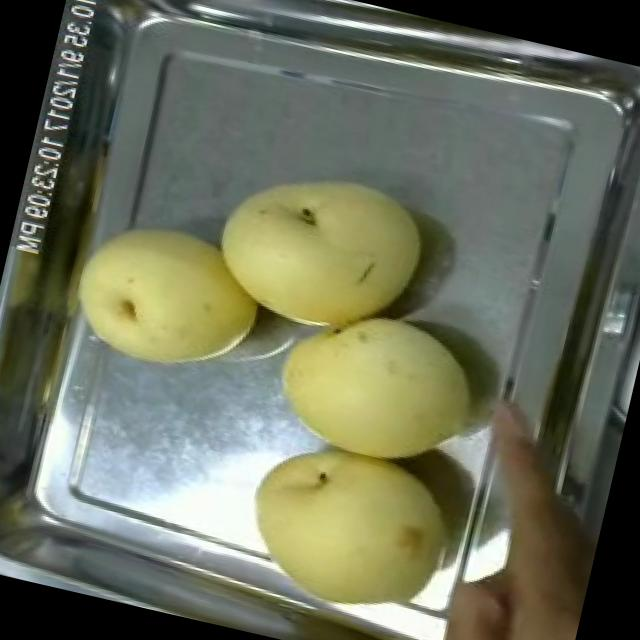Fruit: (220, 417, 480, 640), (198, 146, 438, 354), (255, 284, 493, 486), (53, 201, 279, 395)
